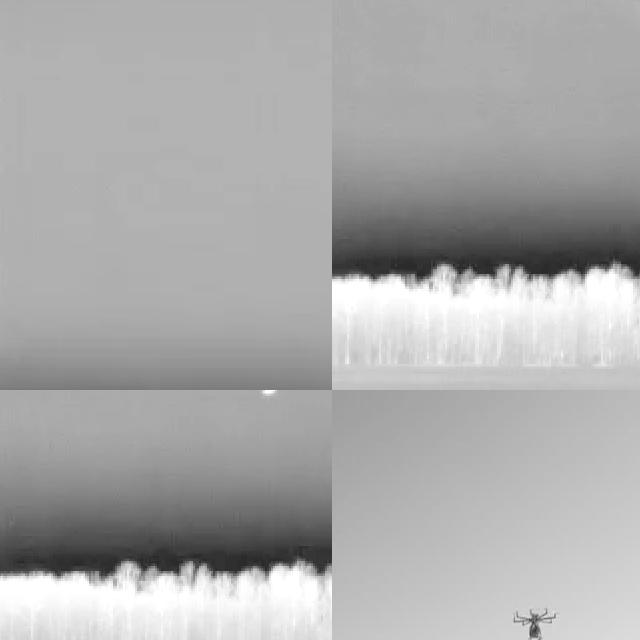1: (254, 390, 290, 408)
drone: (512, 595, 558, 640)
